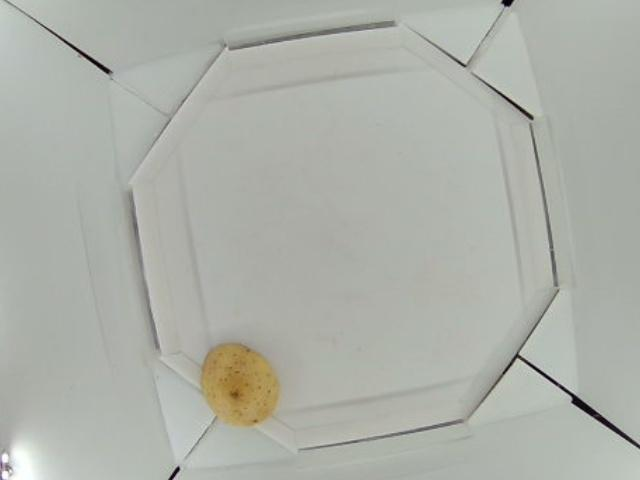Potato: (203, 343, 280, 428)
